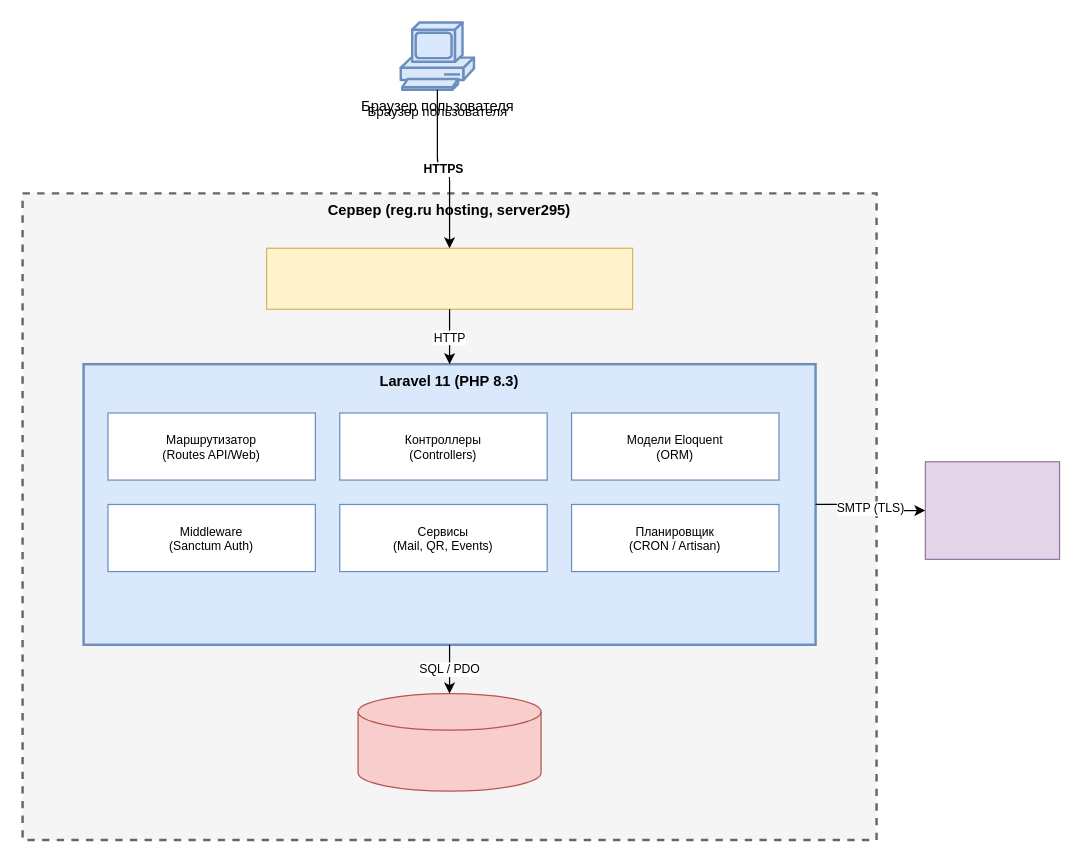
Some shapes in this 1081 by 861 pixel diagram are drawn without their labels. The shapes that lost their labels are listed below. From the top down, each one's centre as x and y in pixels, then its label:
(x=449, y=278): Apache HTTP Server (mod_rewrite)
(x=992, y=510): SMTP-сервер sm40.hosting.reg.ru (порт 465, smtps)
(x=449, y=741): MySQL 8.0
